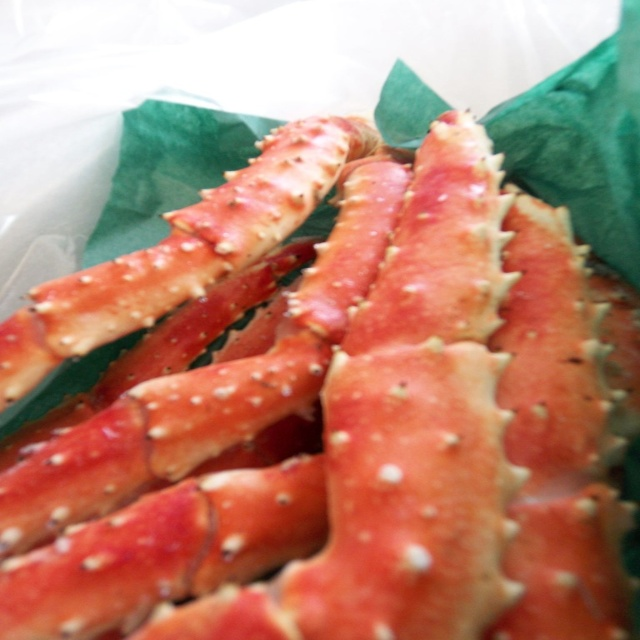Crab: (0, 107, 639, 640)
